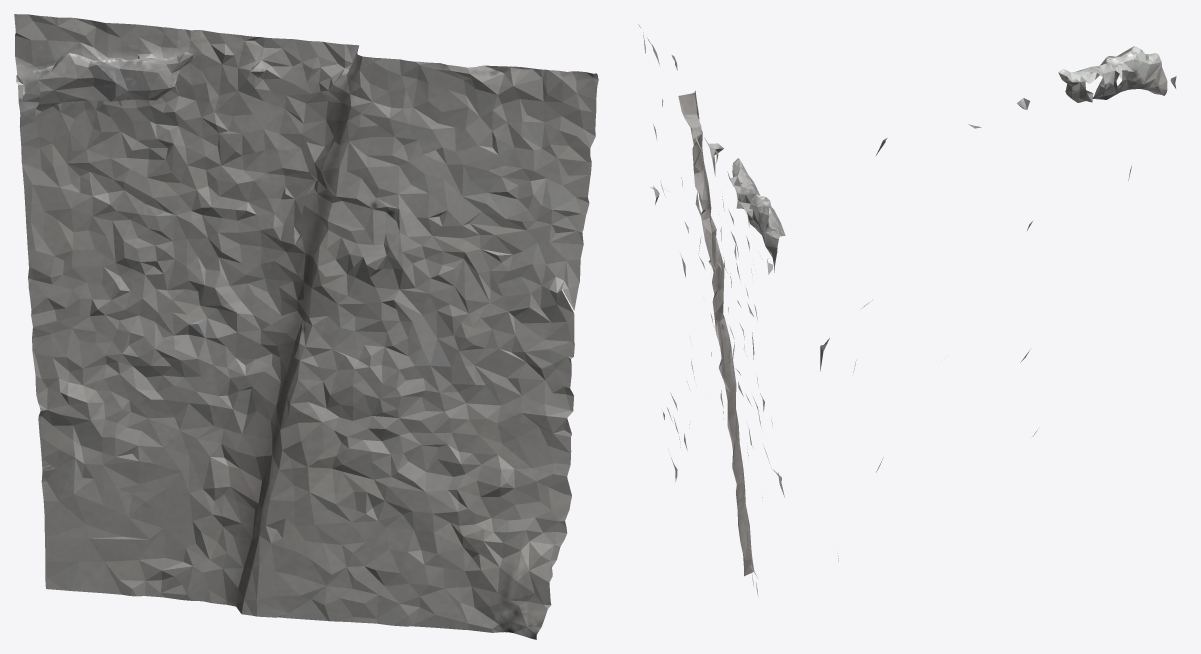
3 renders of one model, left to right at view 1: azimuth 30°, elevation 25°; view 2: azimuth 150°, elevation 25°; view 3: azimuth 270°, elevation 25°, orthographic. The views are drawn at different scales.
Size of the model in its own units: 0.6001 by 0.8374 by 0.5682.
3 materials, 3 textured.
